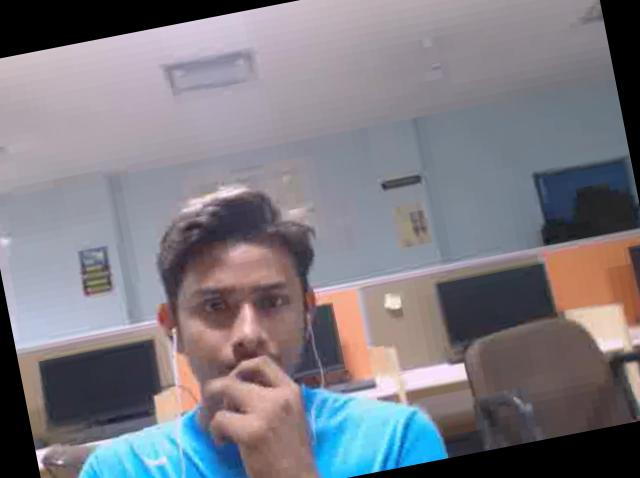bingung: (170, 241, 322, 414)
